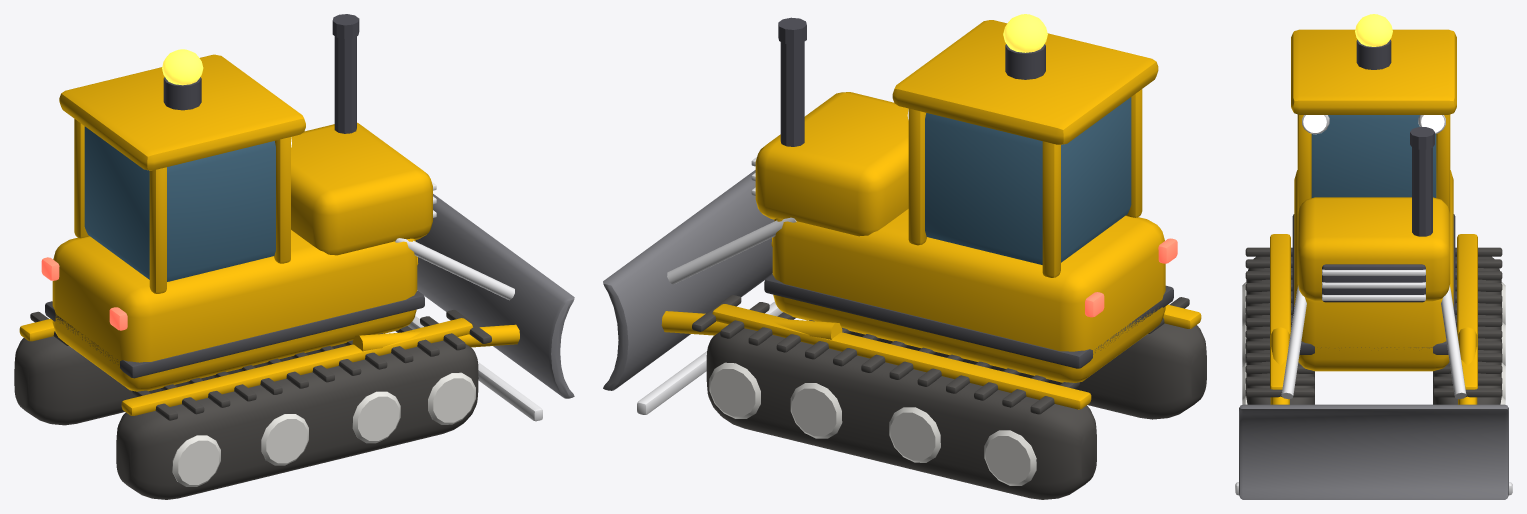
File: bulldozer.glb
3 views of the same model, side by side, from view 1: azimuth 30°, elevation 25°; view 2: azimuth 150°, elevation 25°; view 3: azimuth 270°, elevation 25° (orthographic). The views are drawn at different scales.
Visible parts, largest first — view 1: bulldozer; view 2: bulldozer; view 3: bulldozer.
Boxes of the visible parts, x1,y1,x2,y2 form: bulldozer: (14, 14, 574, 499); bulldozer: (603, 14, 1206, 499); bulldozer: (1235, 14, 1512, 499).
Size of the model in its own units: 1.32 by 1.13 by 0.8.
